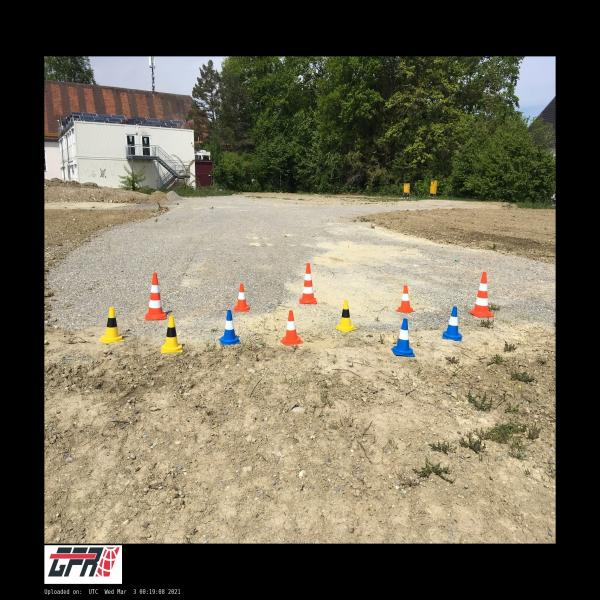blue_cone: (392, 318, 414, 357), (220, 310, 241, 345), (442, 306, 462, 342)
large_orange_cone: (469, 272, 494, 317), (145, 274, 167, 320), (300, 263, 316, 304)
orange_cone: (280, 310, 304, 346), (396, 286, 414, 313), (234, 284, 249, 312)
yellow_cone: (100, 307, 124, 343), (162, 317, 183, 353), (335, 299, 356, 332)
